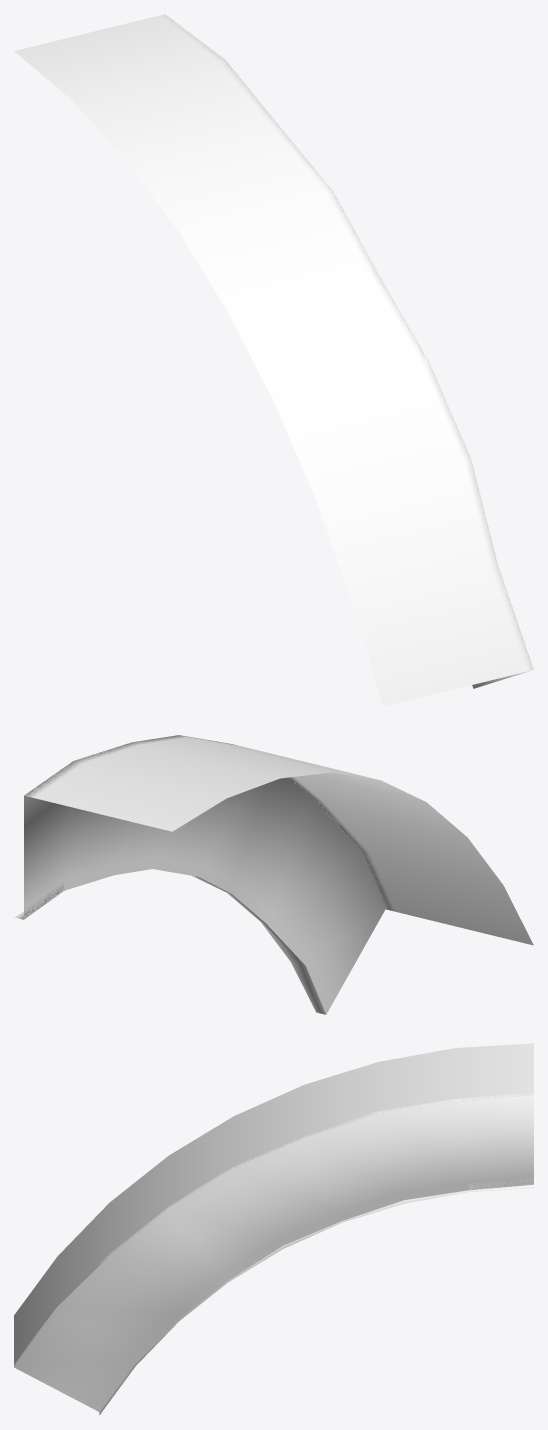
File: grd_Ew_0.dae
3 views of the same model, one above another, from view 1: azimuth 30°, elevation 25°; view 2: azimuth 150°, elevation 25°; view 3: azimuth 270°, elevation 25° (orthographic). The views are drawn at different scales.
Visible parts, largest first — view 1: grass_1_0, cliff_0_0; view 2: cliff_0_0, grass_1_0; view 3: cliff_0_0, grass_1_0.
Part boxes in pixels (bbox=[...]): grass_1_0: bbox=[14, 14, 533, 706]; cliff_0_0: bbox=[155, 15, 533, 688]; cliff_0_0: bbox=[24, 735, 394, 1014]; grass_1_0: bbox=[14, 735, 533, 1014]; cliff_0_0: bbox=[14, 1092, 533, 1411]; grass_1_0: bbox=[14, 1043, 533, 1414].
Size of the model in its own units: 128 by 340 by 507.
Materials: 2 (1 with a texture image).
